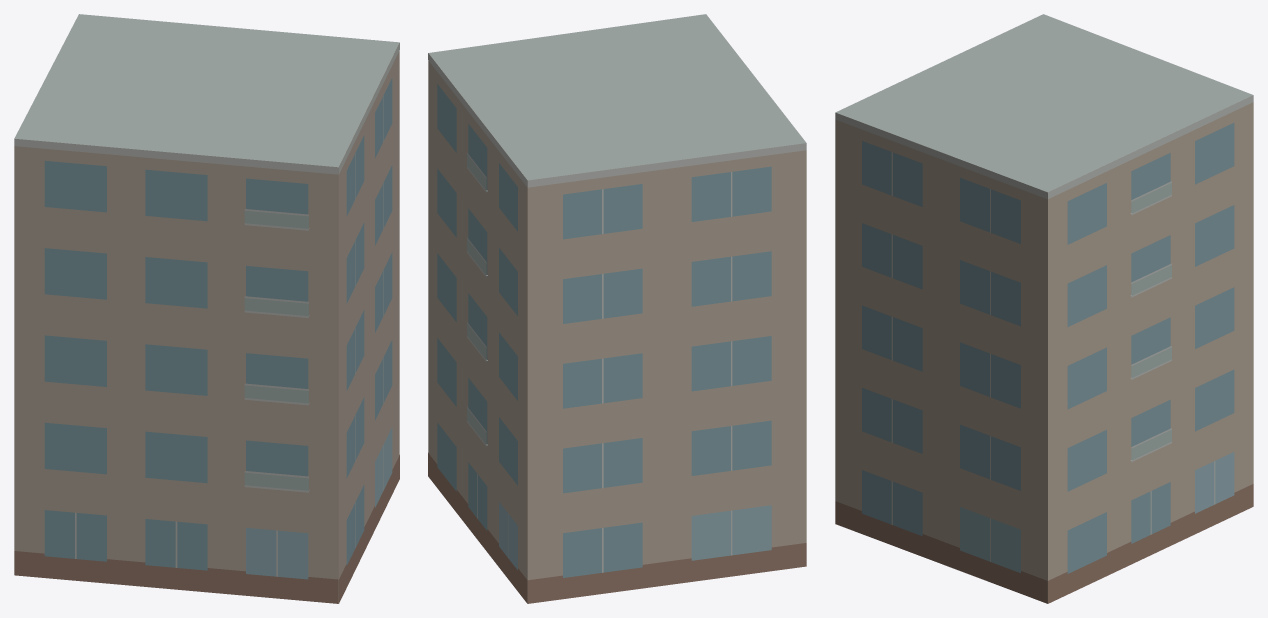
File: survey-upis-32538872.glb
3 renders of one model, left to right at view 1: azimuth 30°, elevation 25°; view 2: azimuth 150°, elevation 25°; view 3: azimuth 270°, elevation 25°, orthographic. The views are drawn at different scales.
Visible parts, largest first — view 1: survey-upis-32538872.tmp; view 2: survey-upis-32538872.tmp; view 3: survey-upis-32538872.tmp.
Boxes of the visible parts, x1,y1,x2,y2 form: survey-upis-32538872.tmp: (14,14,399,603); survey-upis-32538872.tmp: (428,14,806,603); survey-upis-32538872.tmp: (835,14,1253,603).
Bounding box in the file's own units: 13.49 × 14.5 × 13.37.
